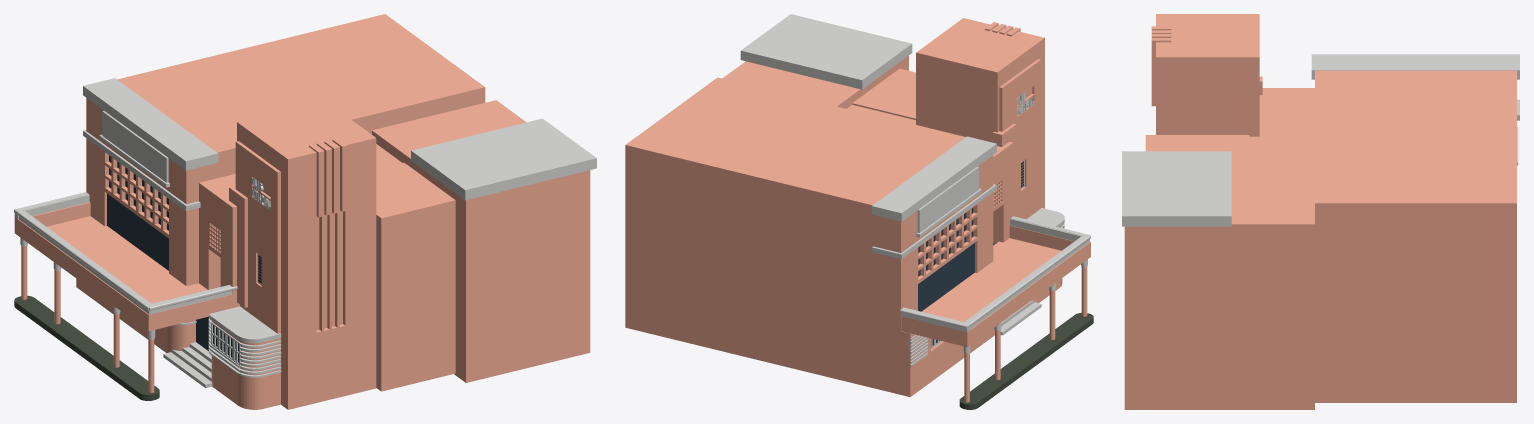
The model's file is comercial.glb.
3 views of the same model, side by side, from view 1: azimuth 30°, elevation 25°; view 2: azimuth 150°, elevation 25°; view 3: azimuth 270°, elevation 25° (orthographic). The views are drawn at different scales.
Parts seen in each view (by area): view 1: Cube.007, Cube.003, Cube.001, Cube.002, Cube.027, Cube.004, Cube.026, Cube.028, Cube.006, Cube.030, Cube.031, Cube.034 (+14 smaller); view 2: Cube.007, Cube.032, Cube.001, Cube.027, Cube.026, Cube.004, Cube.028, Cube.003, Cube.030, Cube.006, Cube.002, Cube.008 (+11 smaller); view 3: Cube.007, Cube.003, Cube.032, Cube.001, Cube.027, Cube.006, Cube.028, Cube.002, Cube.034.
Boxes of the visible parts, box(x1,y1,x2,y2) form: Cube.007: box(86, 14, 485, 285); Cube.003: box(372, 100, 590, 382); Cube.001: box(237, 100, 376, 409); Cube.002: box(376, 162, 455, 391); Cube.027: box(411, 118, 596, 200); Cube.004: box(235, 141, 280, 405); Cube.026: box(16, 216, 207, 329); Cube.028: box(83, 78, 218, 170); Cube.006: box(199, 144, 402, 307); Cube.030: box(14, 295, 159, 400); Cube.031: box(211, 321, 277, 409); Cube.034: box(309, 138, 347, 217); Cube.007: box(625, 77, 993, 331); Cube.032: box(625, 264, 994, 397); Cube.001: box(916, 18, 1044, 208); Cube.027: box(740, 14, 912, 89); Cube.026: box(924, 238, 1088, 345); Cube.004: box(999, 59, 1040, 219); Cube.028: box(872, 136, 996, 221); Cube.003: box(722, 55, 908, 108); Cube.030: box(959, 312, 1093, 409); Cube.006: box(847, 104, 1013, 243); Cube.002: box(852, 68, 915, 119); Cube.008: box(961, 242, 1090, 347); Cube.007: box(1315, 70, 1516, 333); Cube.003: box(1124, 163, 1314, 409); Cube.032: box(1315, 333, 1516, 402); Cube.001: box(1156, 14, 1259, 136); Cube.027: box(1122, 151, 1231, 226); Cube.006: box(1249, 88, 1314, 162); Cube.028: box(1311, 54, 1519, 79); Cube.002: box(1145, 135, 1249, 162); Cube.034: box(1151, 26, 1171, 106).
Size of the model in its own units: 24.13 by 14.98 by 20.99.
